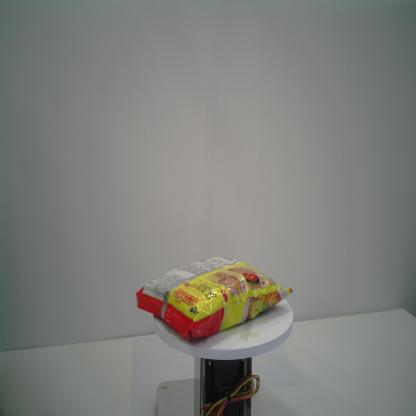Instant Noodles: (136, 255, 294, 341)
